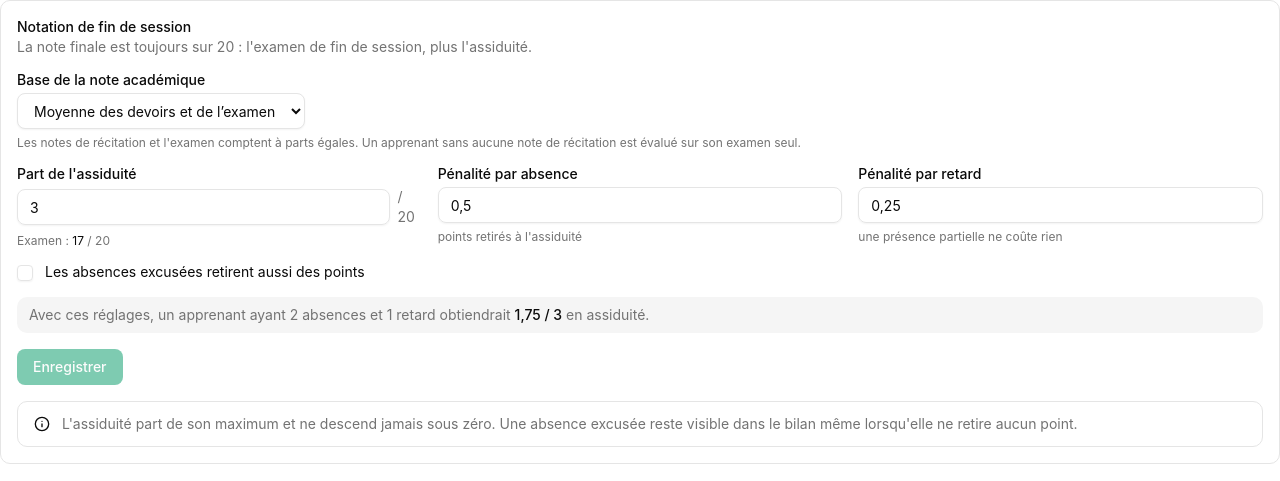
SectionNotation › met à jour la part académique à chaque frappe
Replace the text in the field labelled "Part de l'assiduité" with "5": (203, 207) [17,189,390,225]
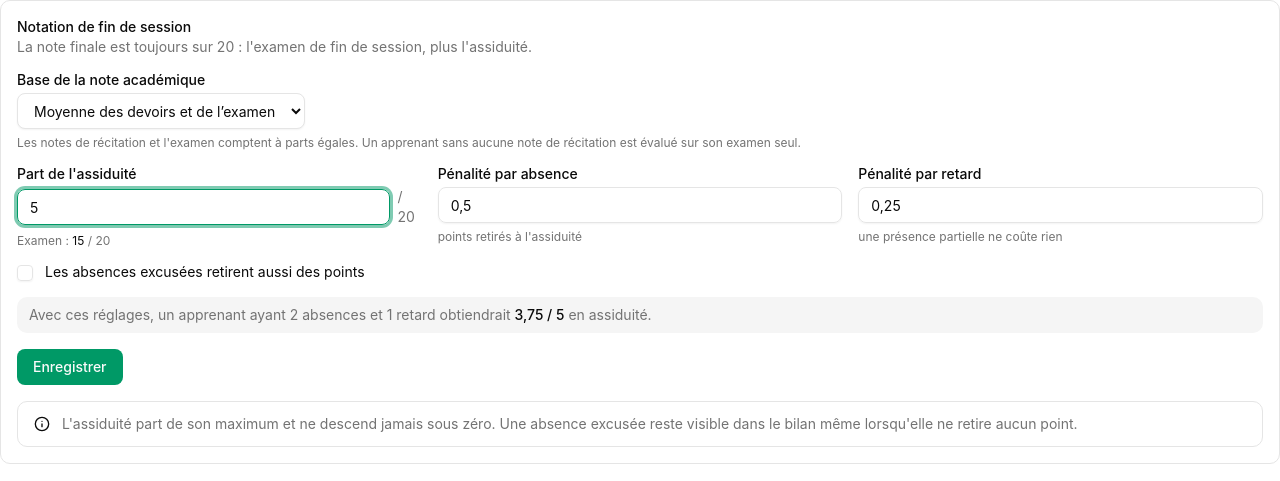
Expected: the text "15" is shown, [72,233,84,248]
